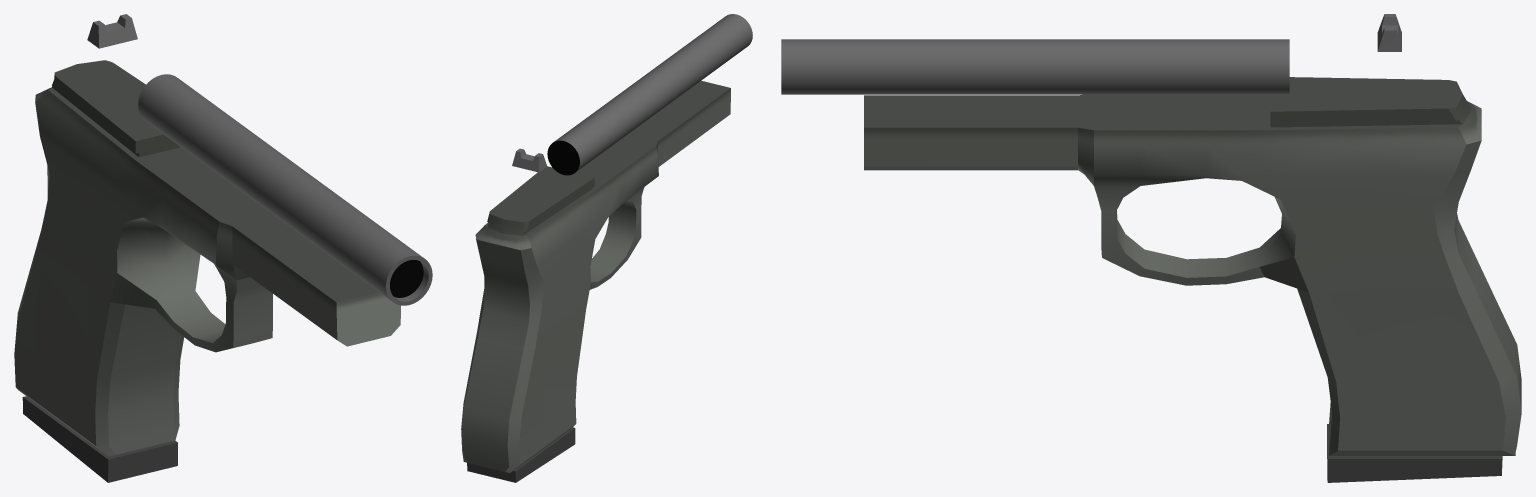
The model's file is Pistol.obj.
3 views of the same model, side by side, from view 1: azimuth 30°, elevation 25°; view 2: azimuth 150°, elevation 25°; view 3: azimuth 270°, elevation 25° (orthographic). The views are drawn at different scales.
Visible parts, largest first — view 1: Pistol; view 2: Pistol; view 3: Pistol.
Part boxes in pixels (bbox=[...]): Pistol: bbox=[14, 14, 432, 482]; Pistol: bbox=[461, 14, 752, 482]; Pistol: bbox=[781, 14, 1521, 482].
Size of the model in its own units: 1.76 by 8.66 by 13.11.
Materials: 1 (1 with a texture image).
